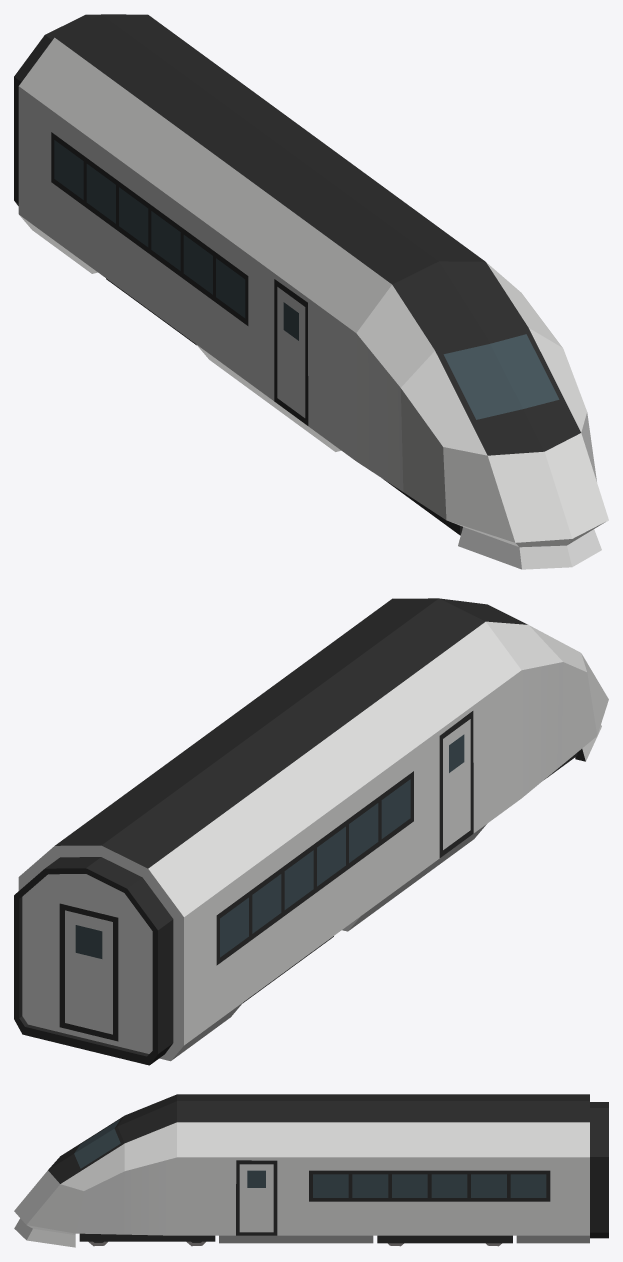
Rendered from vehicles_train-speed.fbx.
3 renders of one model, top to bottom at view 1: azimuth 30°, elevation 25°; view 2: azimuth 150°, elevation 25°; view 3: azimuth 270°, elevation 25°, orthographic. The views are drawn at different scales.
Visible parts, largest first — view 1: train_speed_base; view 2: train_speed_base; view 3: train_speed_base, train_speed_wheel_frame_B, train_speed_wheel_frame_F.
Part boxes in pixels (bbox=[...]): train_speed_base: bbox=[14, 14, 608, 569]; train_speed_base: bbox=[14, 598, 608, 1065]; train_speed_base: bbox=[14, 1094, 608, 1247]; train_speed_wheel_frame_B: bbox=[377, 1235, 512, 1243]; train_speed_wheel_frame_F: bbox=[79, 1233, 215, 1241].
Size of the model in its own units: 39.27 by 49.61 by 200.
